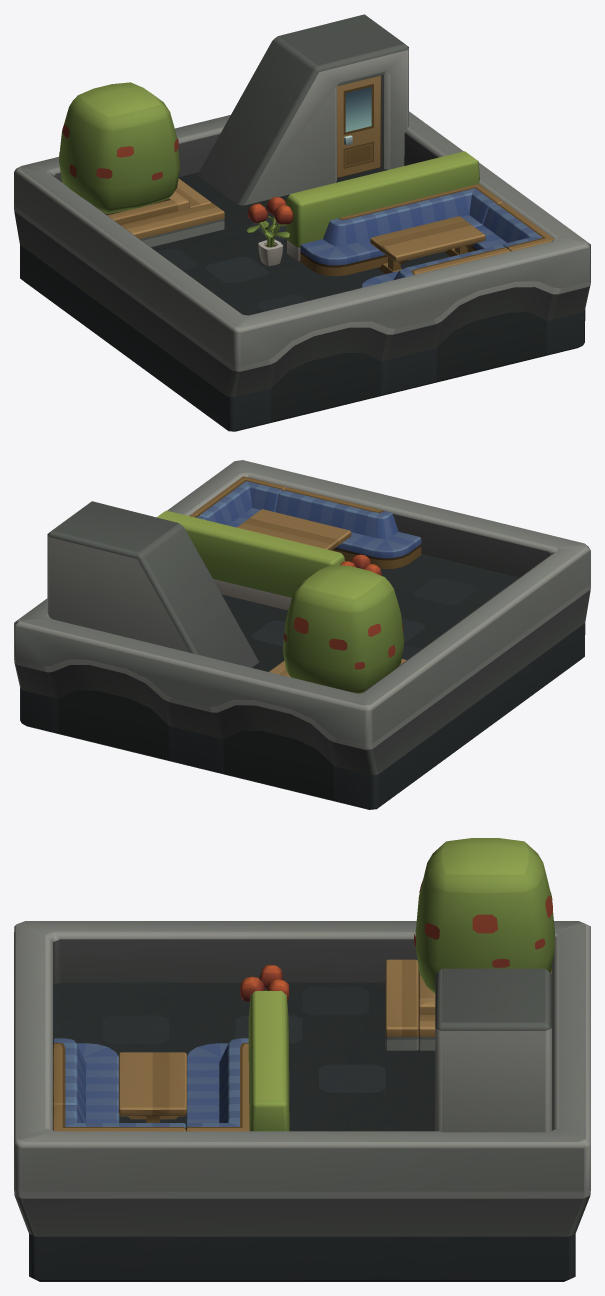
The model's file is appartment_type1_roof_type1_x4_flat_cream_deco.fbx.
3 views of the same model, one above another, from view 1: azimuth 30°, elevation 25°; view 2: azimuth 150°, elevation 25°; view 3: azimuth 270°, elevation 25° (orthographic). The views are drawn at different scales.
Parts seen in each view (by area): view 1: appartment_type1_roof_type1_x4_flat_cream_deco, door_wood_rooftop_doorway; view 2: appartment_type1_roof_type1_x4_flat_cream_deco; view 3: appartment_type1_roof_type1_x4_flat_cream_deco.
Boxes of the visible parts, <box> form: appartment_type1_roof_type1_x4_flat_cream_deco: <box>14,14,590,431</box>; door_wood_rooftop_doorway: <box>337,75,380,178</box>; appartment_type1_roof_type1_x4_flat_cream_deco: <box>14,460,590,809</box>; appartment_type1_roof_type1_x4_flat_cream_deco: <box>14,838,590,1281</box>.
Bounding box in the file's own units: 800 × 413 × 867.
